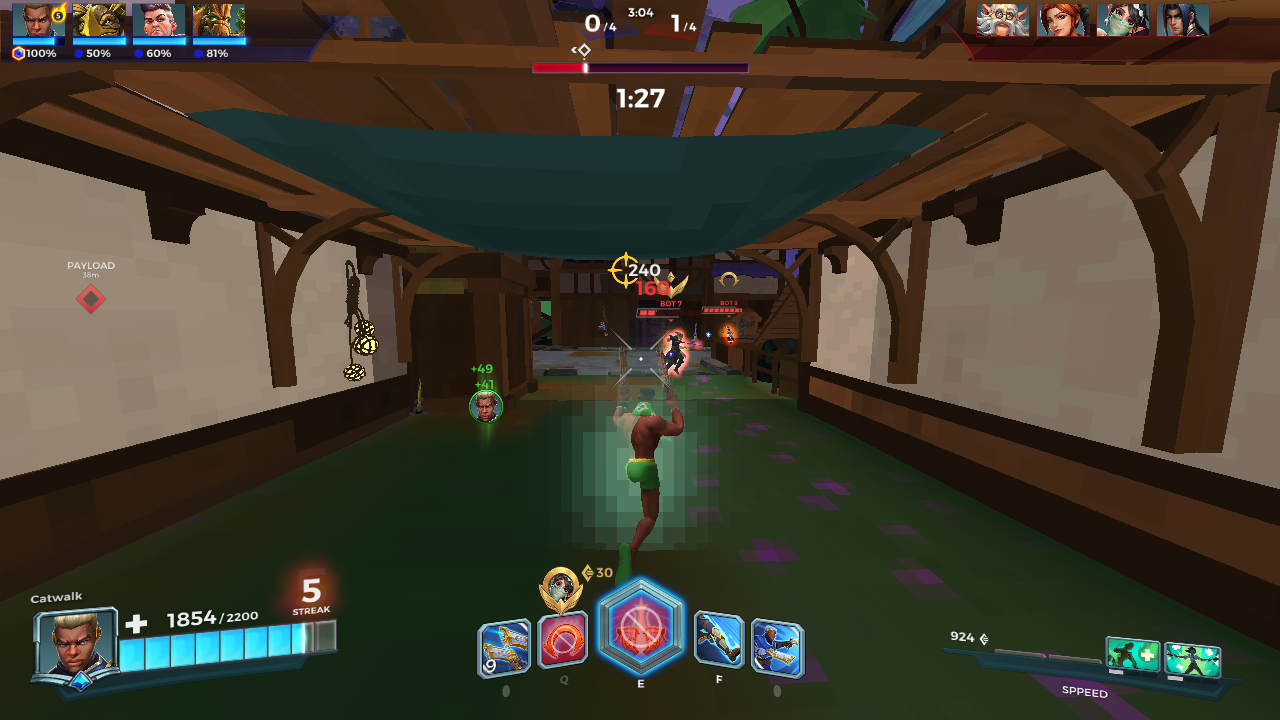model: (664, 322, 687, 377), (724, 324, 736, 347)
